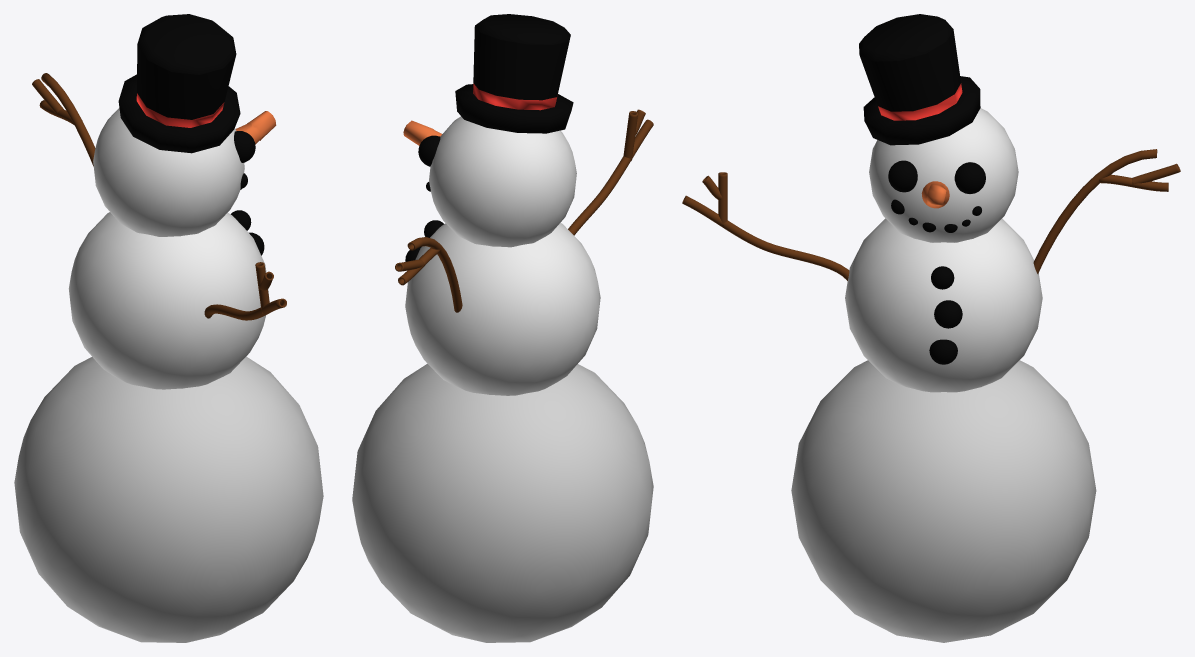
Rendered from Snowman.fbx.
The picture shows the model from 3 angles, left to right: view 1: azimuth 30°, elevation 25°; view 2: azimuth 150°, elevation 25°; view 3: azimuth 270°, elevation 25°; orthographic projection. The views are drawn at different scales.
Parts seen in each view (by area): view 1: Icosphere, Icosphere.001, Cylinder, Icosphere.002, BezierCurve, Cube, Icosphere.004; view 2: Icosphere, Icosphere.001, Icosphere.002, Cylinder, BezierCurve, Cube, Icosphere.003; view 3: Icosphere, Icosphere.001, Cylinder, Icosphere.002, BezierCurve, Icosphere.003, Icosphere.004.
Boxes of the visible parts, x1=… form: Icosphere: x1=14, y1=356, x2=323, y2=642; Icosphere.001: x1=68, y1=212, x2=269, y2=389; Cylinder: x1=118, y1=14, x2=240, y2=153; Icosphere.002: x1=93, y1=108, x2=244, y2=236; BezierCurve: x1=32, y1=73, x2=286, y2=320; Cube: x1=235, y1=111, x2=276, y2=144; Icosphere.004: x1=234, y1=131, x2=255, y2=162; Icosphere: x1=352, y1=364, x2=653, y2=642; Icosphere.001: x1=405, y1=223, x2=600, y2=395; Icosphere.002: x1=429, y1=116, x2=576, y2=247; Cylinder: x1=455, y1=14, x2=573, y2=133; BezierCurve: x1=395, y1=109, x2=653, y2=312; Cube: x1=403, y1=120, x2=441, y2=145; Icosphere.003: x1=418, y1=135, x2=440, y2=166; Icosphere: x1=791, y1=360, x2=1096, y2=642; Icosphere.001: x1=845, y1=218, x2=1042, y2=392; Cylinder: x1=859, y1=14, x2=980, y2=145; Icosphere.002: x1=869, y1=108, x2=1018, y2=242; BezierCurve: x1=682, y1=149, x2=1180, y2=280; Icosphere.003: x1=954, y1=162, x2=985, y2=193; Icosphere.004: x1=888, y1=160, x2=917, y2=192.
Size of the model in its own units: 200 by 436 by 327.
